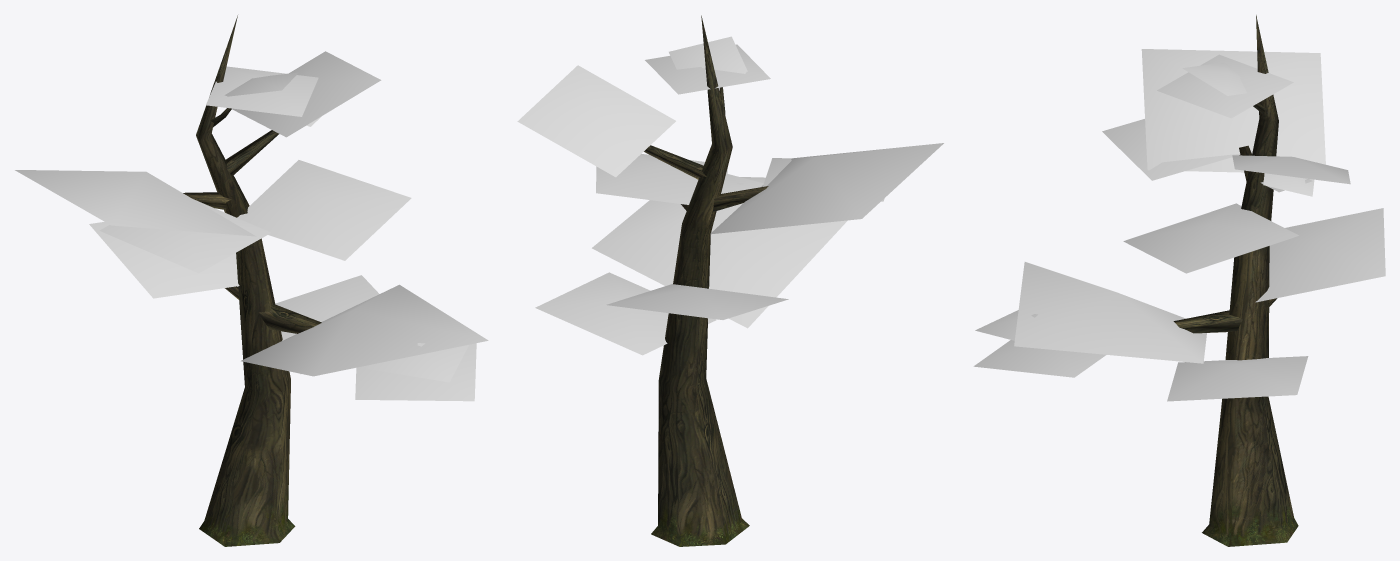
Rendered from BigTree2_NOLOD.fbx.
3 renders of one model, left to right at view 1: azimuth 30°, elevation 25°; view 2: azimuth 150°, elevation 25°; view 3: azimuth 270°, elevation 25°, orthographic.
Visible parts, largest first — view 1: bigtree2_LOD0; view 2: bigtree2_LOD0; view 3: bigtree2_LOD0.
Boxes of the visible parts, bbox=[...] form: bigtree2_LOD0: bbox=[15, 15, 488, 546]; bigtree2_LOD0: bbox=[517, 15, 943, 546]; bigtree2_LOD0: bbox=[973, 15, 1385, 546].
Bounding box in the file's own units: 6300 × 9088 × 6638.
